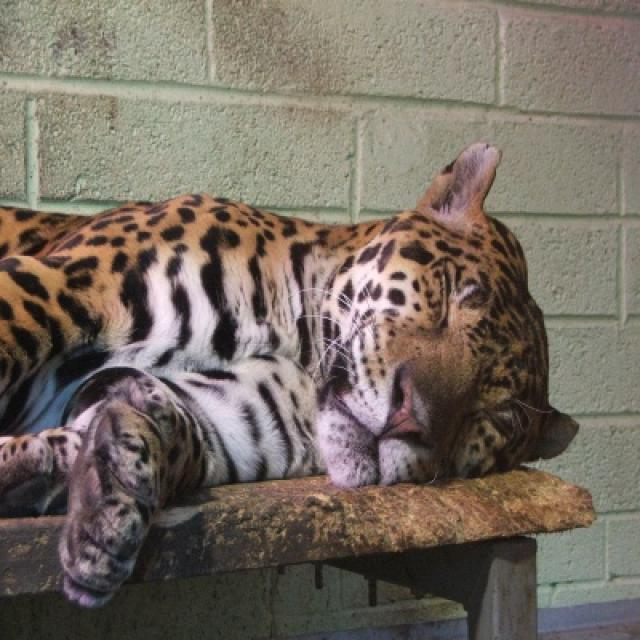Jaguar: (0, 144, 578, 611)
